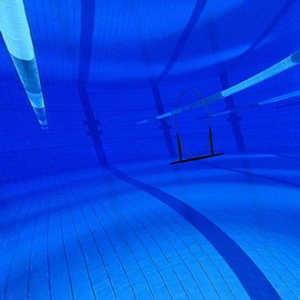circle: (169, 87, 226, 168)
